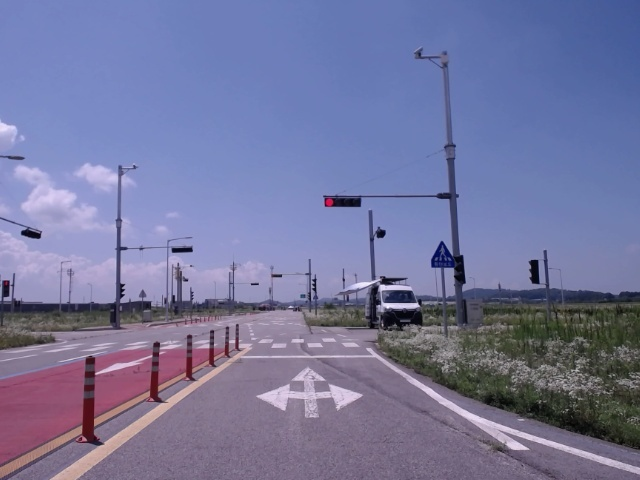red_4: (324, 197, 362, 207)
